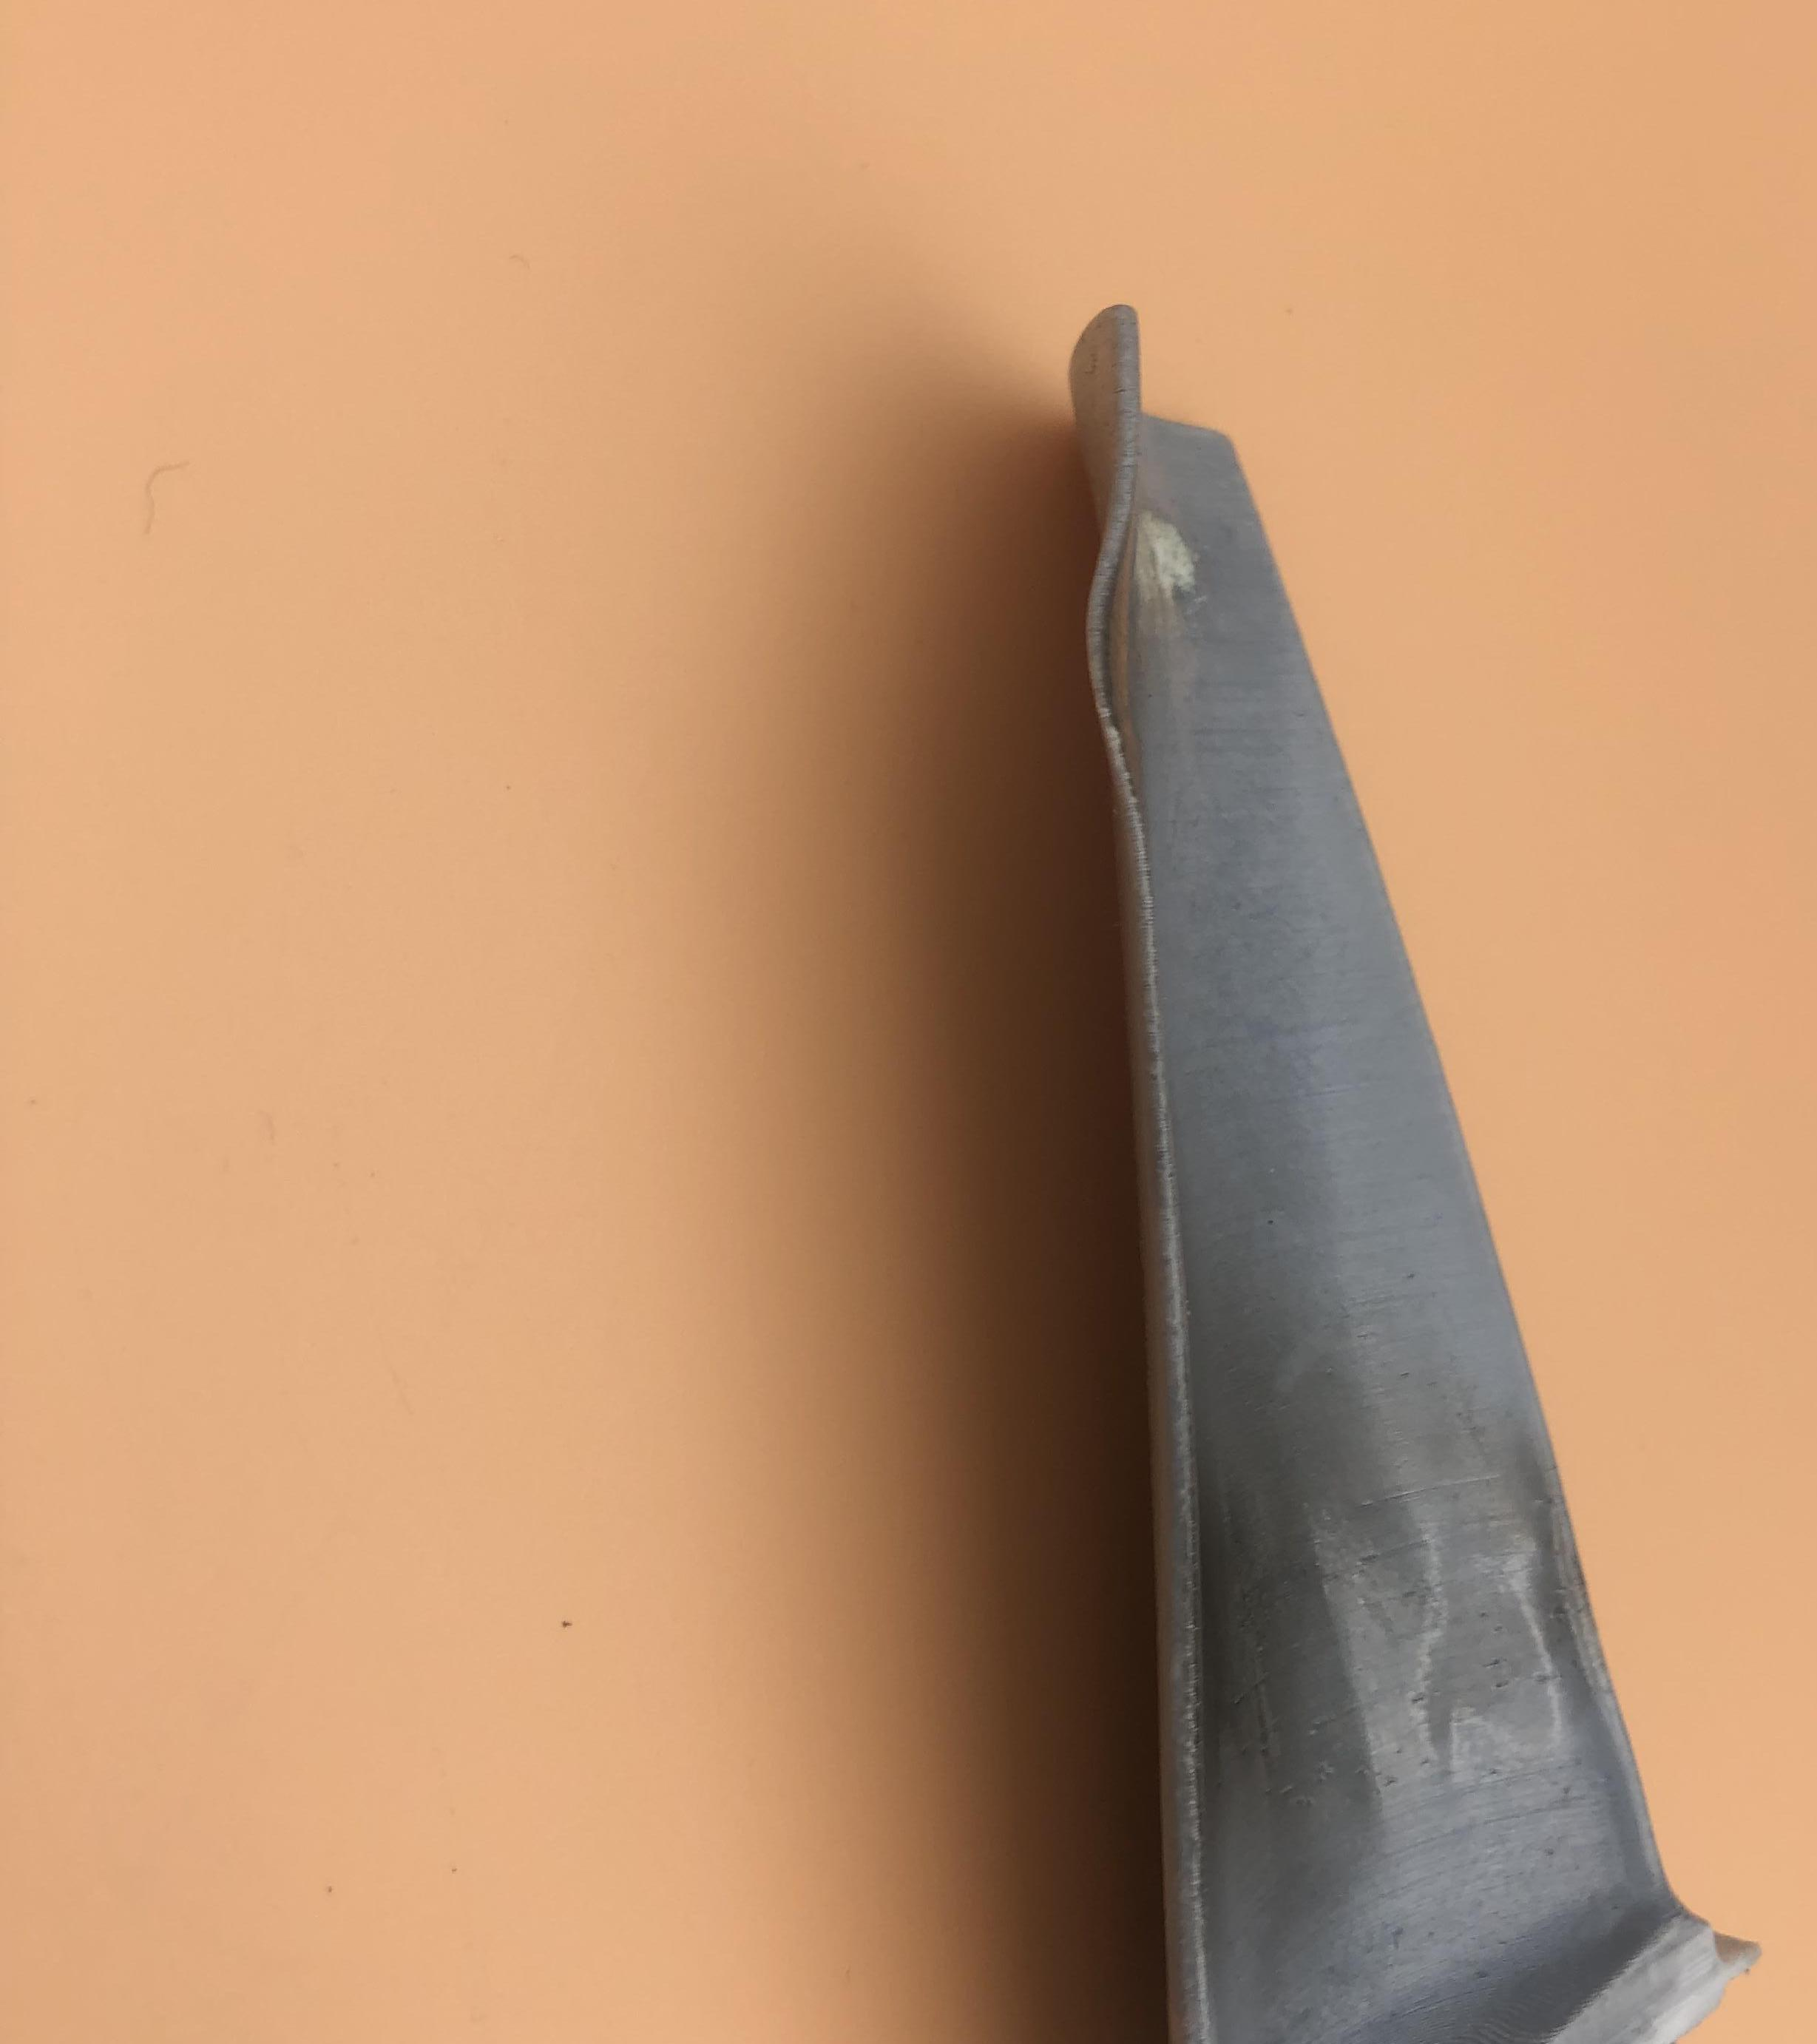ablation: (1189, 1436, 1347, 1832)
